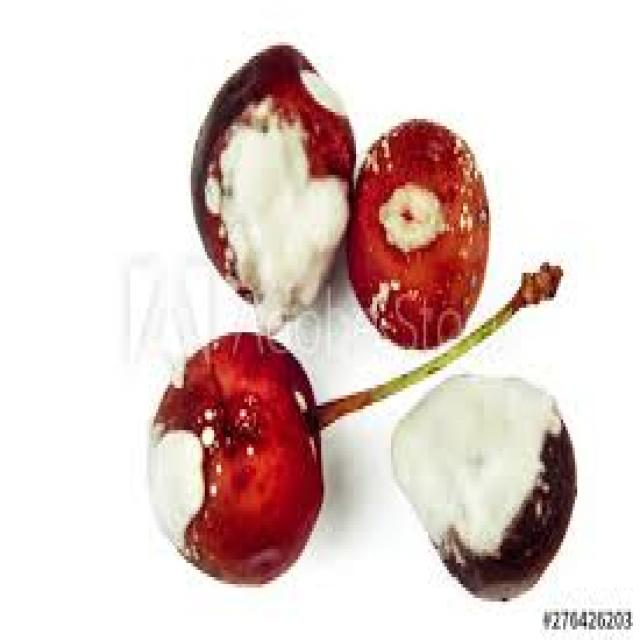organic waste: (144, 262, 559, 581), (188, 38, 354, 329), (388, 367, 574, 598), (344, 115, 486, 343)
